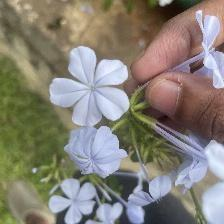chitrak: (48, 43, 136, 128), (65, 126, 128, 179), (196, 11, 224, 90), (49, 179, 97, 224)
